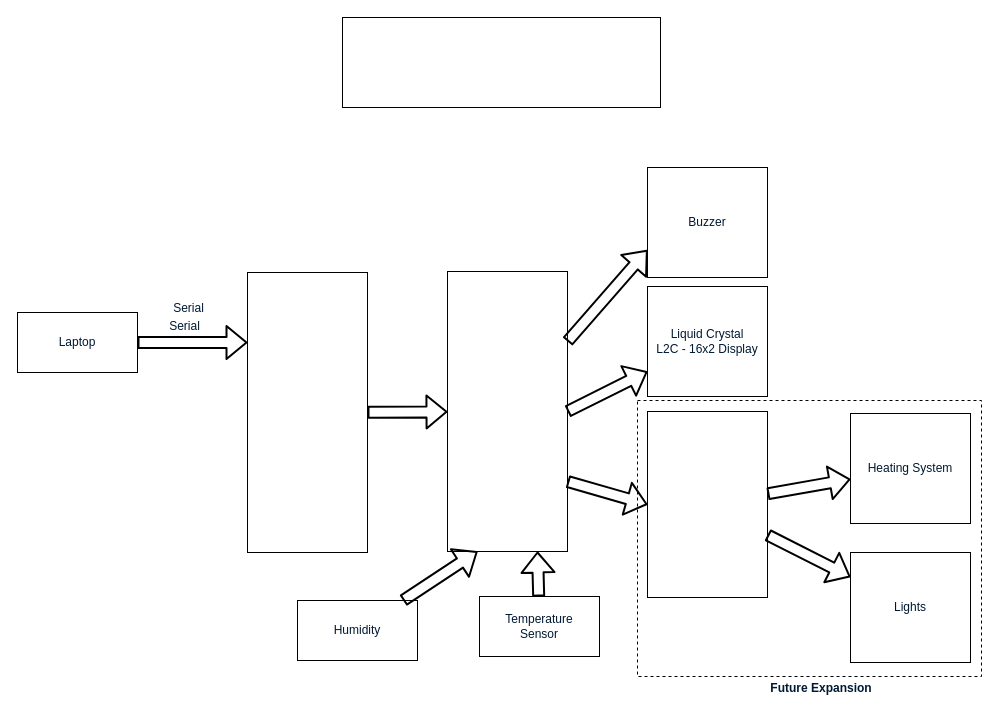
Some shapes in this 999 by 726 pixel diagram are drawn without their labels. Here are the shapes that lost their labels. From the top down, the centre of each, then its label:
At [501,62]: "SmartINO - Voice Recognition Hardware Block Diagram".
At [307,412]: "Arduino Leonardo".
At [507,411]: "321 Maker Shield".
At [707,504]: "IR Sensor".
